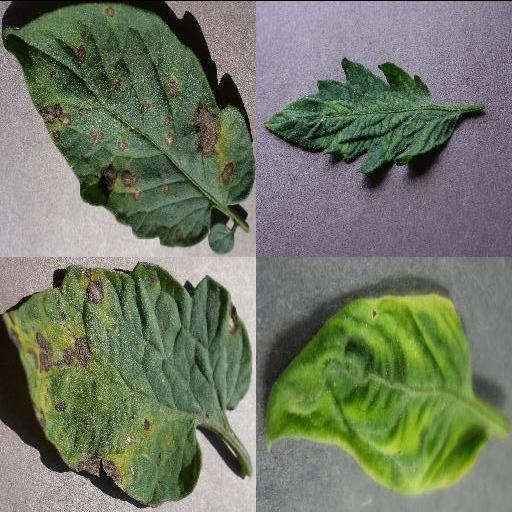Early Blight: (2, 1, 256, 246), (3, 260, 253, 504)
Mosaic Virus: (261, 55, 459, 173)
Yellow Leaf Curl Virus: (264, 286, 490, 492)
